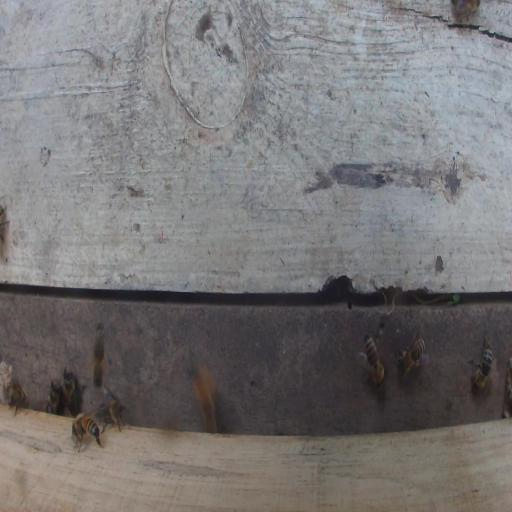bee: (191, 366, 217, 426), (358, 333, 386, 388), (467, 334, 492, 391), (71, 411, 103, 453), (397, 329, 426, 375), (99, 391, 126, 433), (92, 322, 105, 390), (62, 367, 79, 415), (8, 380, 29, 417), (45, 378, 61, 415), (451, 1, 481, 20)
